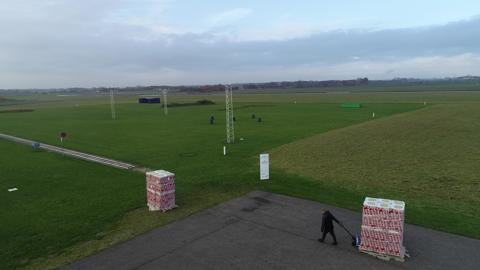RockwoolPallet: (361, 198, 405, 256)
